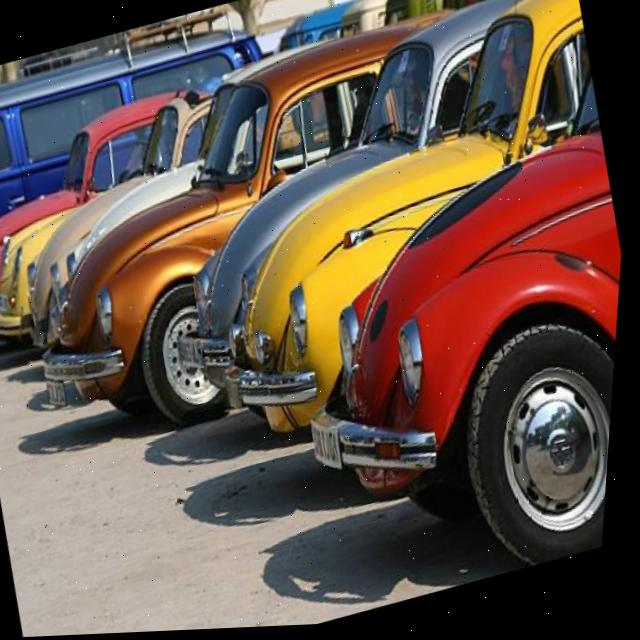vehicle: (0, 0, 563, 469), (265, 36, 637, 613)
